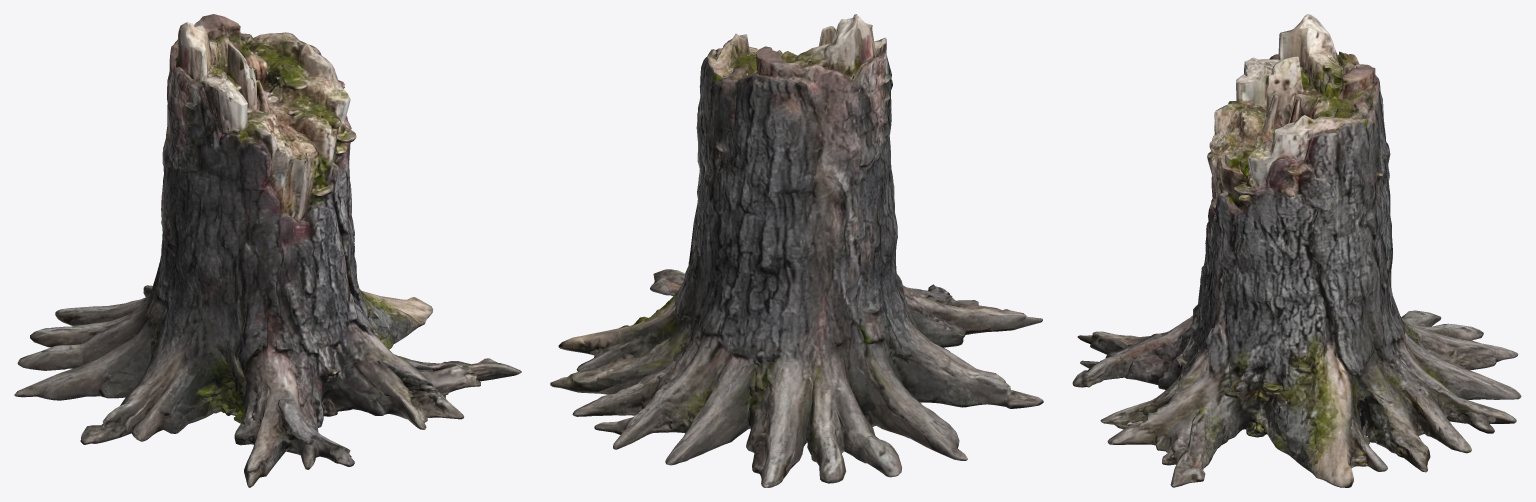
File: broken-stump-v5-lod.glb
The picture shows the model from 3 angles, left to right: view 1: azimuth 30°, elevation 25°; view 2: azimuth 150°, elevation 25°; view 3: azimuth 270°, elevation 25°; orthographic projection. The views are drawn at different scales.
Visible parts, largest first — view 1: geometry_0; view 2: geometry_0; view 3: geometry_0.
Boxes of the visible parts, left/top/right/bottom form: geometry_0: left=14, top=14, right=521, bottom=487; geometry_0: left=550, top=14, right=1043, bottom=487; geometry_0: left=1072, top=14, right=1521, bottom=487.
Bounding box in the file's own units: 1.04 × 0.8987 × 1.04.
Materials: 1 (1 with a texture image).
